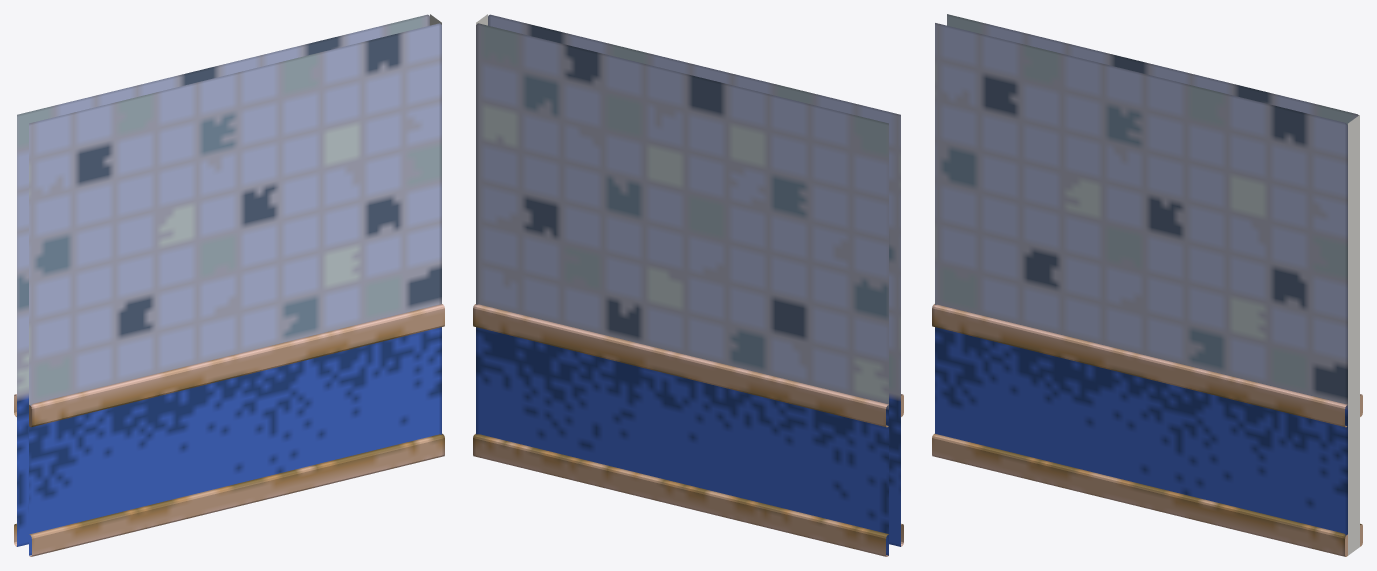
The model's file is Wall_TipoB_2.fbx.
3 renders of one model, left to right at view 1: azimuth 30°, elevation 25°; view 2: azimuth 150°, elevation 25°; view 3: azimuth 330°, elevation 25°, orthographic.
Visible parts, largest first — view 1: Cube.085, Cube.106, Cube.084; view 2: Cube.085, Cube.105, Cube.107; view 3: Cube.085, Cube.084, Cube.106.
Part boxes in pixels (x1,y1,x2,y2): Cube.085: (17, 14, 441, 555); Cube.106: (29, 304, 444, 427); Cube.084: (29, 433, 444, 556); Cube.085: (476, 14, 900, 555); Cube.105: (473, 304, 888, 427); Cube.107: (473, 433, 888, 556); Cube.085: (935, 14, 1359, 555); Cube.084: (932, 433, 1347, 556); Cube.106: (932, 304, 1347, 427).
Size of the model in its own units: 400 by 400 by 29.95.
